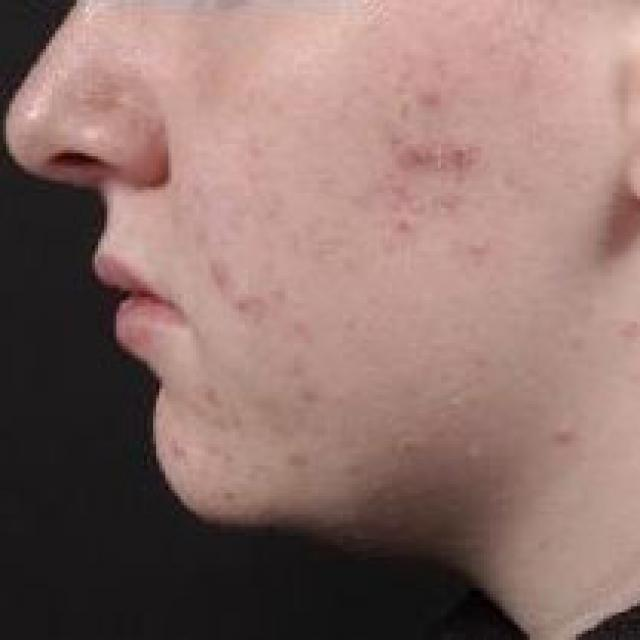acne: (393, 137, 484, 182), (210, 258, 270, 323), (555, 424, 582, 450), (167, 439, 190, 465)
